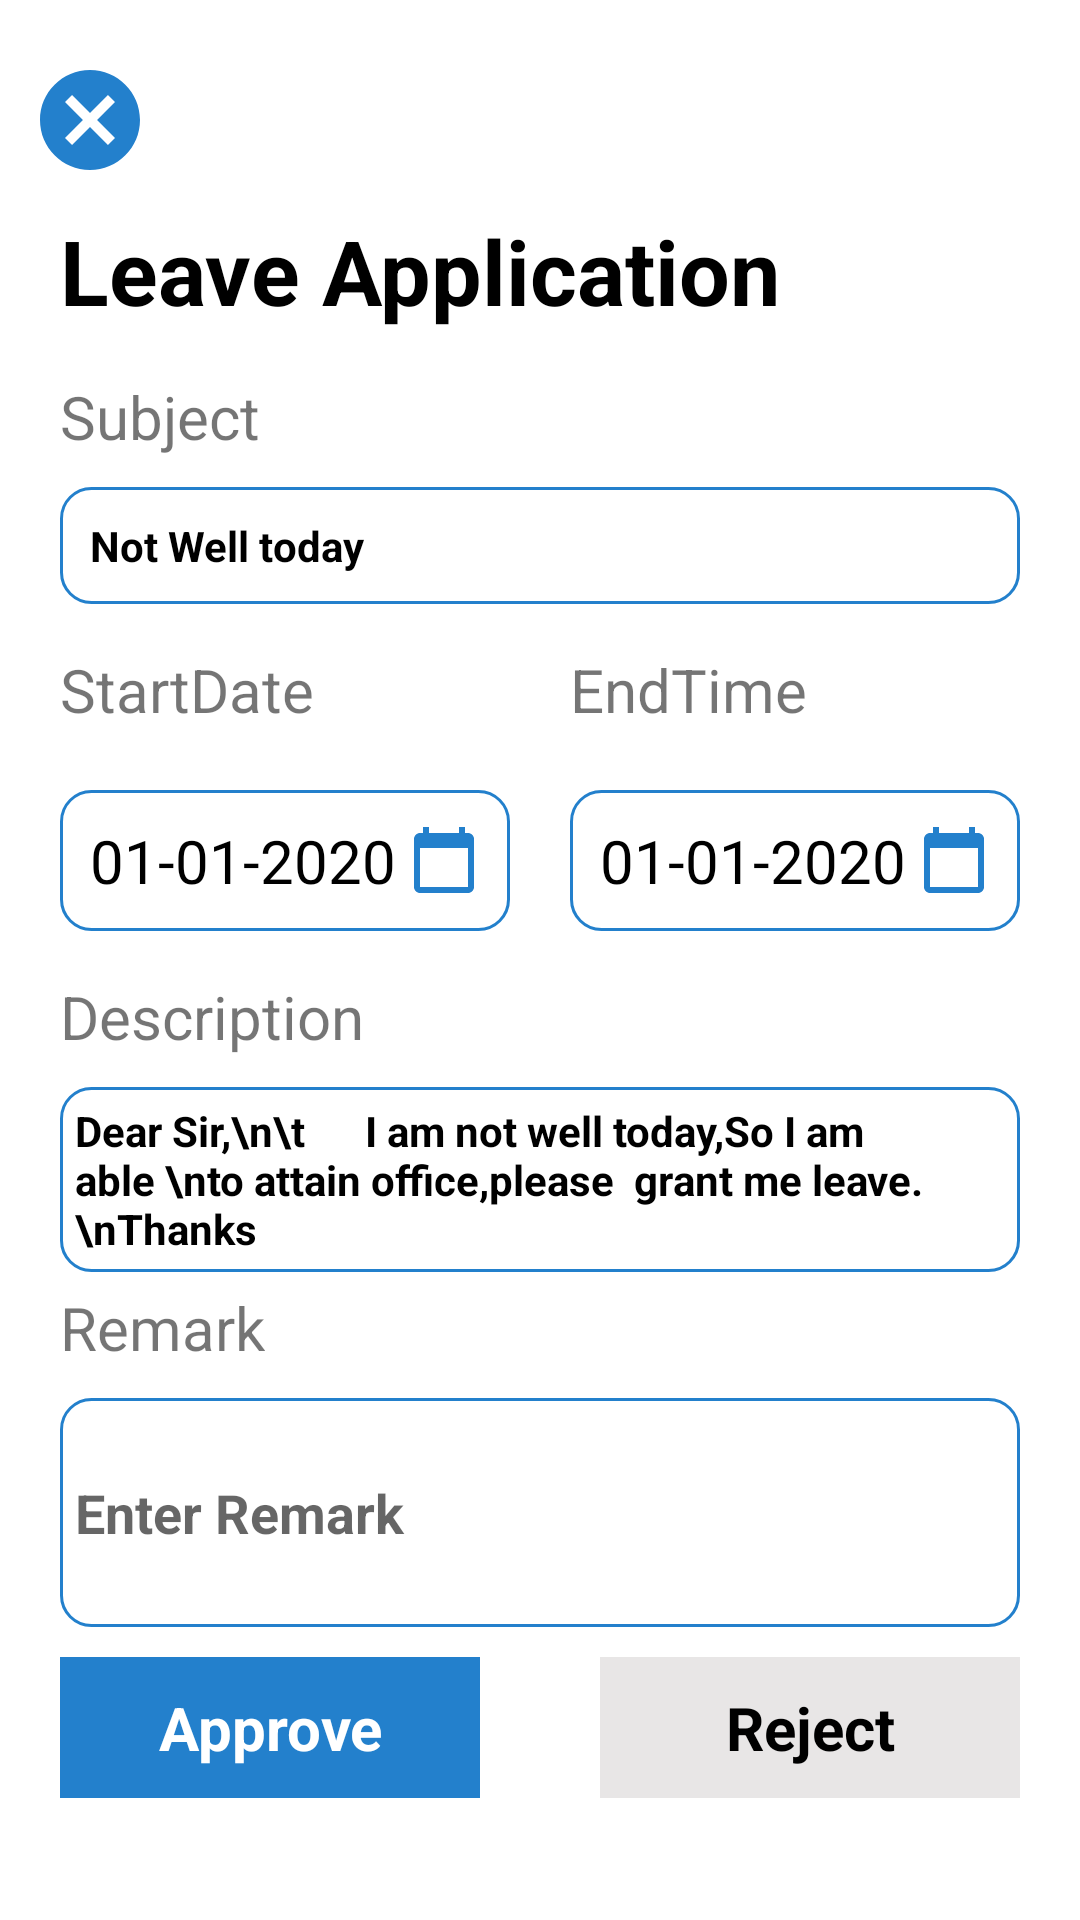

Where icons sit on this 1080x1920 app screen, as [left=x1, top=y1, right=x2, bottom=y2]:
cancel: [left=40, top=70, right=140, bottom=170]
